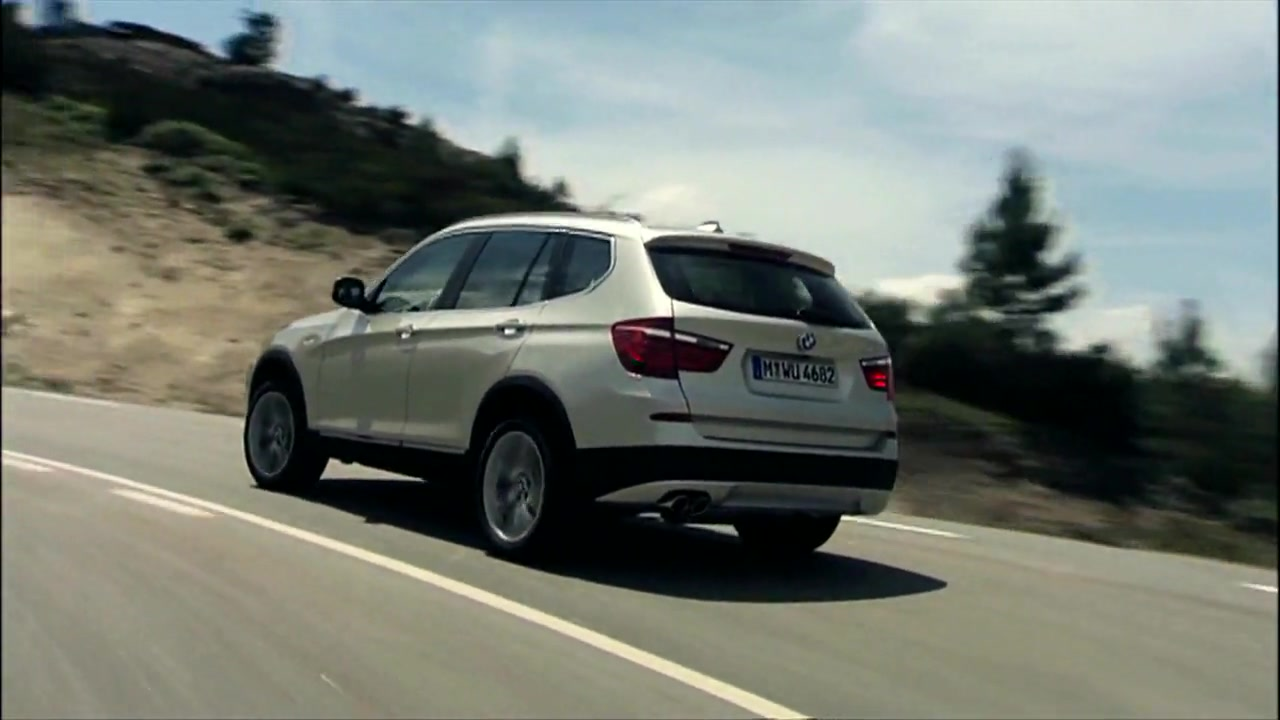car: (238, 207, 907, 562)
